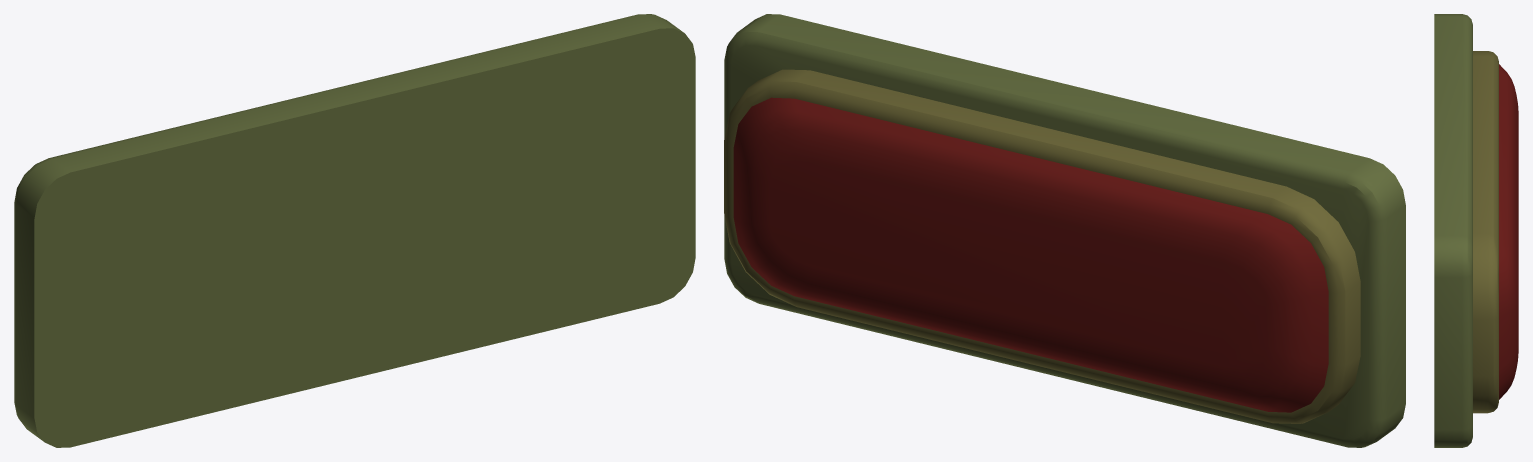
Rendered from lamp.fbx.
The picture shows the model from 3 angles, left to right: view 1: azimuth 30°, elevation 25°; view 2: azimuth 150°, elevation 25°; view 3: azimuth 270°, elevation 25°; orthographic projection. The views are drawn at different scales.
Visible parts, largest first — view 1: Cube; view 2: Cube; view 3: Cube.
Boxes of the visible parts, left/top/right/bottom form: Cube: left=14, top=14, right=695, bottom=447; Cube: left=724, top=14, right=1405, bottom=447; Cube: left=1434, top=14, right=1518, bottom=447.
Size of the model in its own units: 200 by 79.48 by 28.97.
